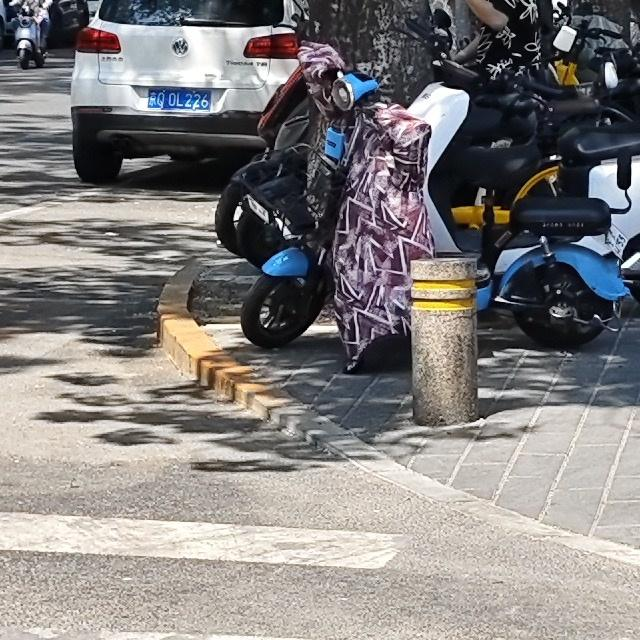curb: (269, 398, 639, 567), (157, 261, 283, 418)
